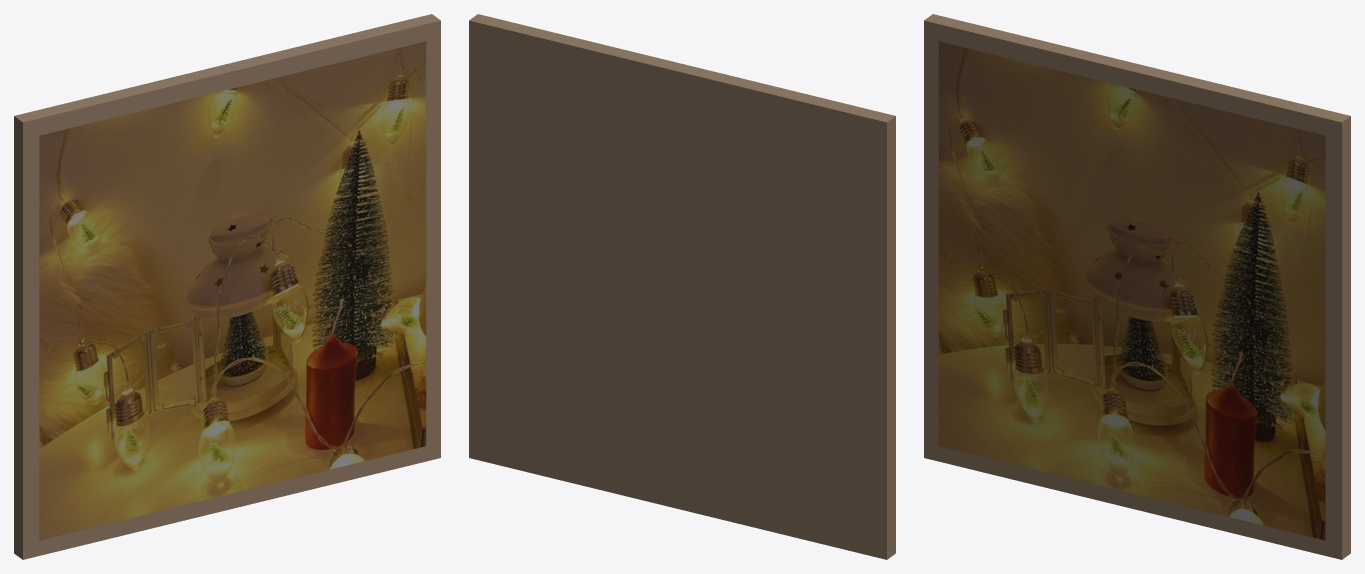
Rendered from B0DNFQ9DFY.glb.
3 views of the same model, side by side, from view 1: azimuth 30°, elevation 25°; view 2: azimuth 150°, elevation 25°; view 3: azimuth 330°, elevation 25° (orthographic).
Parts seen in each view (by area): view 1: photo, frame; view 2: frame; view 3: photo, frame.
Part boxes in pixels (x1=…): photo: x1=39, y1=41, x2=426, y2=540; frame: x1=14, y1=14, x2=440, y2=559; frame: x1=469, y1=14, x2=895, y2=559; photo: x1=938, y1=41, x2=1325, y2=540; frame: x1=924, y1=14, x2=1350, y2=559.
Size of the model in its own units: 0.54 by 0.54 by 0.022.
Materials: 1 (1 with a texture image).
